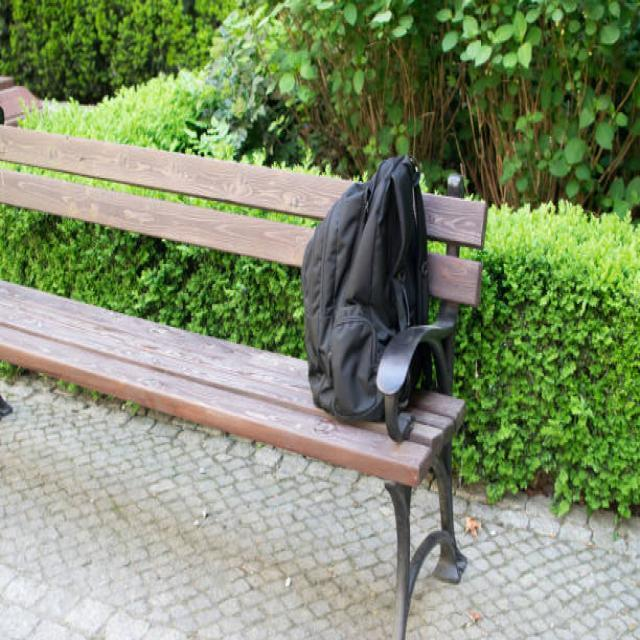Backpacks: (300, 151, 439, 430)
